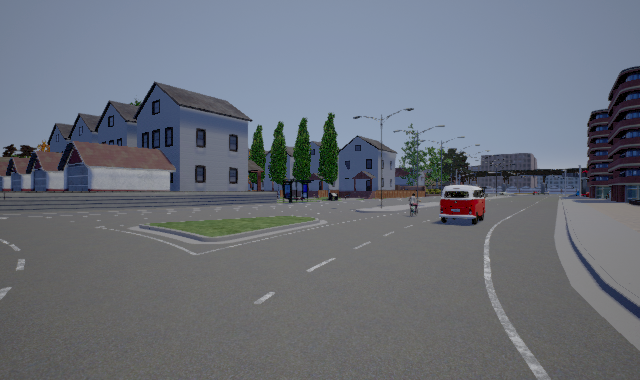bike: (407, 194, 421, 216)
vehicle: (439, 185, 488, 225)
